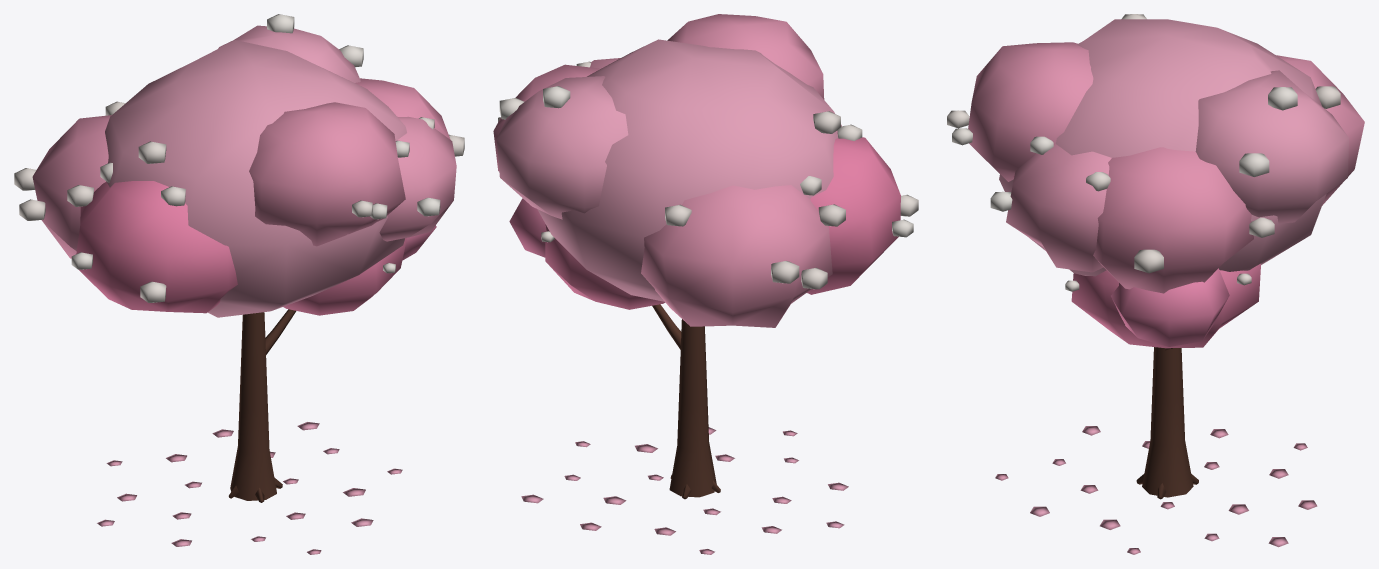
File: flora_tree_cherry_blossom.gltf
The picture shows the model from 3 angles, left to right: view 1: azimuth 30°, elevation 25°; view 2: azimuth 150°, elevation 25°; view 3: azimuth 270°, elevation 25°; orthographic projection. The views are drawn at different scales.
Parts seen in each view (by area): view 1: flora_tree_cherry_blossom; view 2: flora_tree_cherry_blossom; view 3: flora_tree_cherry_blossom.
Part boxes in pixels (bbox=[...]): flora_tree_cherry_blossom: bbox=[14, 14, 464, 554]; flora_tree_cherry_blossom: bbox=[493, 14, 918, 554]; flora_tree_cherry_blossom: bbox=[947, 14, 1364, 554].
Size of what is drawn, in the model's own units: 7.16 by 7.31 by 6.12.
